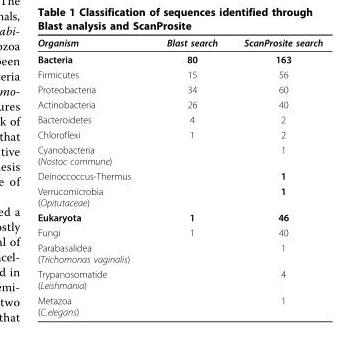table: (36, 36, 322, 316)
table column: (36, 36, 148, 316), (230, 36, 322, 316), (148, 36, 230, 316)
table column header: (36, 36, 322, 50)
table row: (36, 141, 322, 168), (36, 239, 322, 266), (36, 183, 322, 209), (36, 266, 322, 292), (36, 292, 322, 316), (36, 50, 322, 66), (36, 66, 322, 81), (36, 81, 322, 96), (36, 96, 322, 111), (36, 111, 322, 126), (36, 126, 322, 141), (36, 168, 322, 183), (36, 209, 322, 224), (36, 224, 322, 239), (36, 36, 322, 50)
